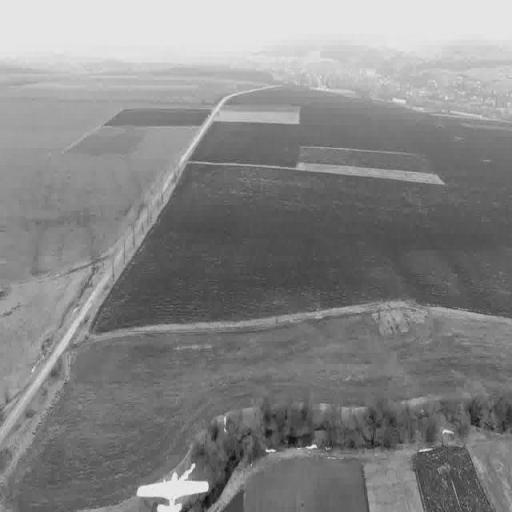uav: (136, 457, 215, 512)
